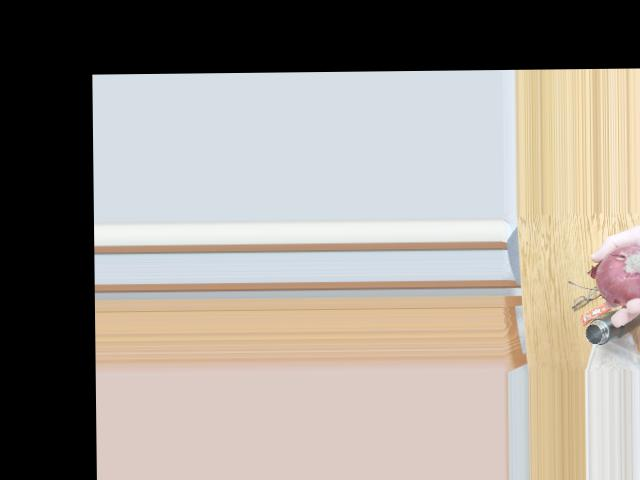onion: (602, 243, 640, 304)
